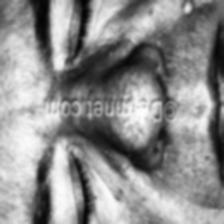Non-Cancerous Skin Condition: (106, 118, 162, 172), (182, 0, 196, 16)
